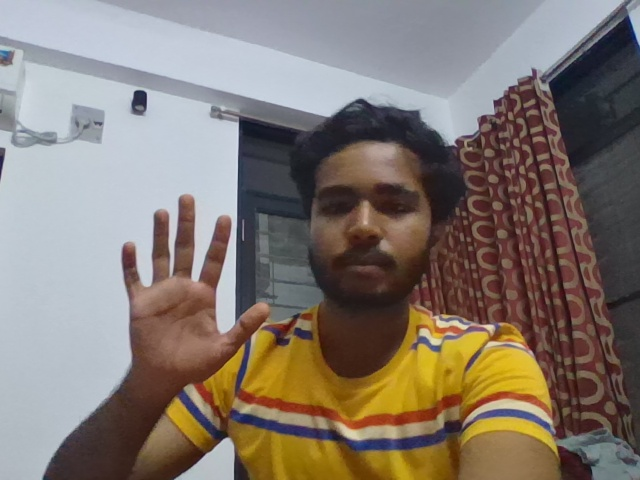Hello: (116, 191, 273, 397)
